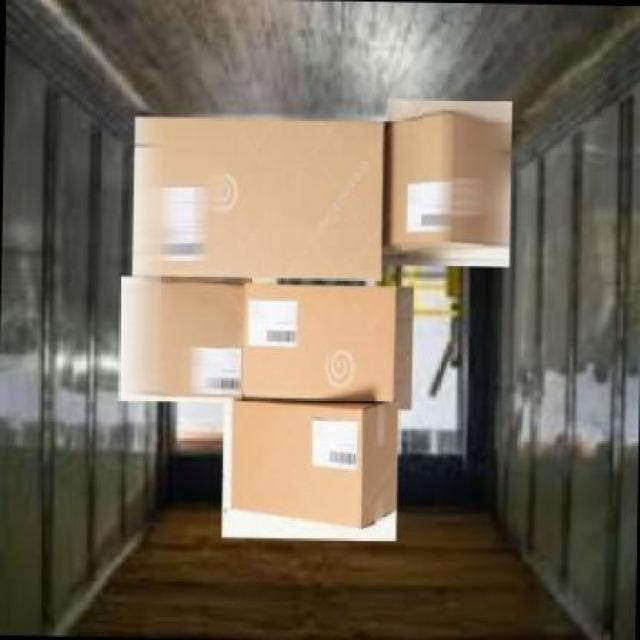box: (126, 114, 391, 281), (217, 390, 401, 542), (229, 281, 414, 410), (381, 94, 513, 268), (115, 274, 254, 403)
